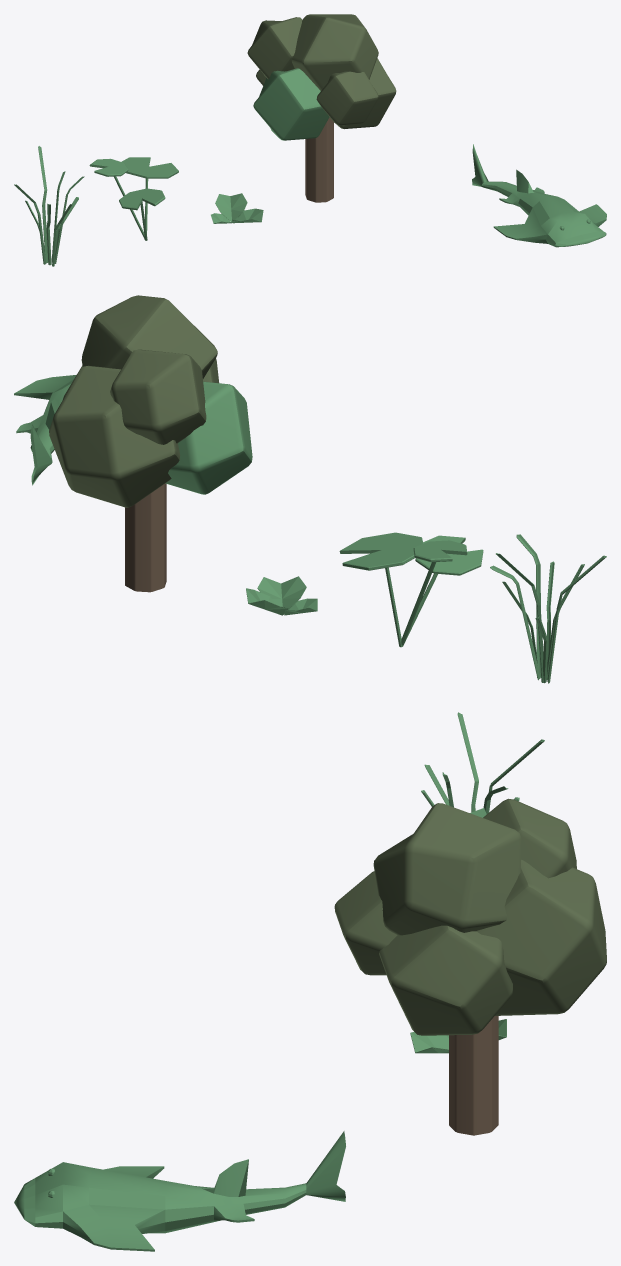
Rendered from GuitarFish_Trees.fbx.
3 renders of one model, top to bottom at view 1: azimuth 30°, elevation 25°; view 2: azimuth 150°, elevation 25°; view 3: azimuth 270°, elevation 25°, orthographic. The views are drawn at different scales.
Parts seen in each view (by area): view 1: Tree_2, Guitarfish, Waterplant2, Waterplant1, Waterplant3; view 2: Tree_2, Waterplant2, Waterplant1, Guitarfish, Waterplant3; view 3: Tree_2, Guitarfish, Waterplant1, Waterplant3.
Boxes of the visible parts, box(x1,y1,x2,y2) form: Tree_2: box(247, 14, 396, 202); Guitarfish: box(472, 144, 606, 247); Waterplant2: box(89, 157, 178, 240); Waterplant1: box(14, 146, 84, 266); Waterplant3: box(211, 193, 263, 223); Tree_2: box(49, 295, 252, 592); Waterplant2: box(339, 532, 483, 647); Waterplant1: box(490, 534, 606, 683); Guitarfish: box(14, 375, 76, 485); Waterplant3: box(246, 576, 317, 615); Tree_2: box(334, 798, 606, 1135); Guitarfish: box(14, 1131, 345, 1251); Waterplant1: box(421, 712, 544, 814); Waterplant3: box(410, 1019, 506, 1053).
Bounding box in the file's own units: 11.87 × 4.34 × 7.24.
